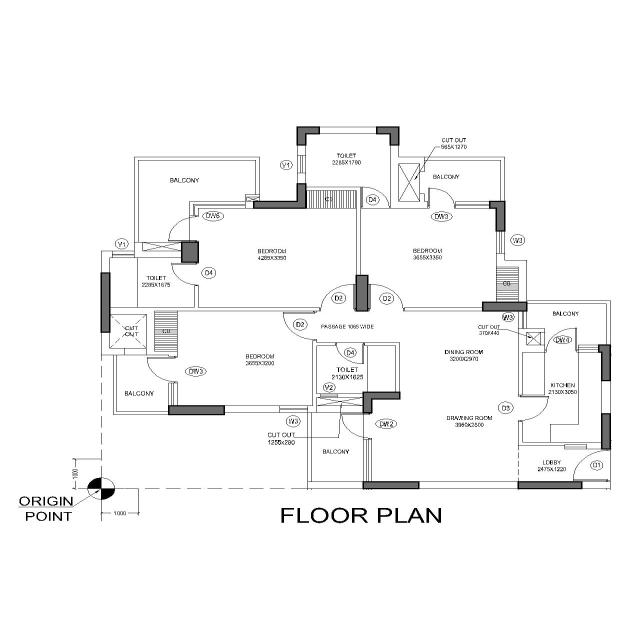Column: (251, 182, 309, 210), (360, 390, 402, 416), (98, 271, 114, 334), (516, 479, 586, 491), (488, 199, 510, 235), (166, 404, 226, 417), (374, 124, 406, 148), (596, 343, 614, 384), (354, 274, 371, 313), (479, 300, 529, 313), (362, 480, 422, 490), (179, 240, 201, 265), (295, 125, 321, 146), (600, 412, 614, 450)
Door: (192, 262, 200, 309), (310, 310, 320, 342), (367, 306, 407, 312), (318, 306, 358, 312), (334, 342, 368, 347), (359, 205, 392, 209)
Ventilator: (111, 250, 135, 260), (296, 154, 308, 174), (319, 393, 339, 398)
Window: (278, 404, 310, 414), (494, 229, 506, 255)
